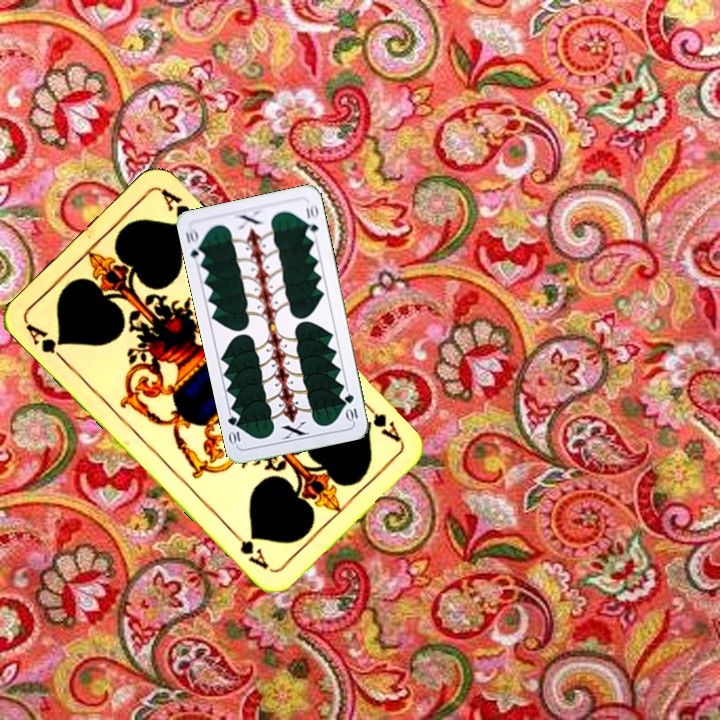G10: (181, 225, 207, 264), (341, 390, 360, 424)
GA: (21, 319, 69, 366), (358, 396, 404, 445)
